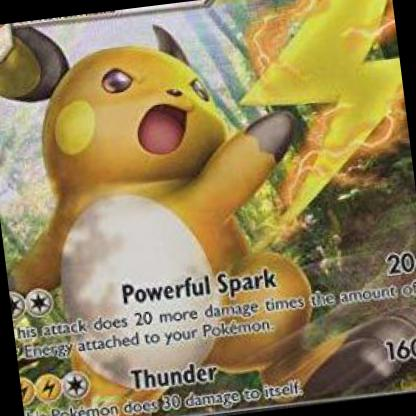Raichu: (1, 25, 416, 416)
